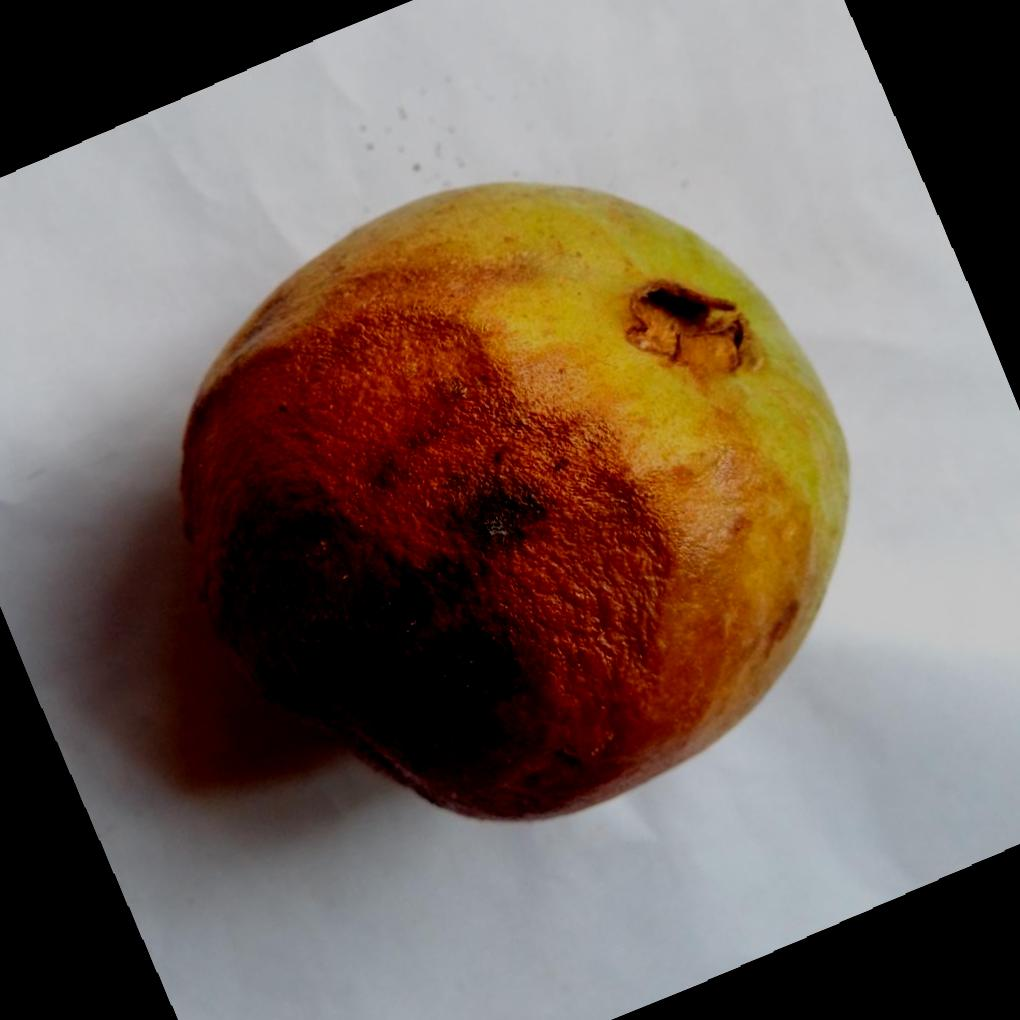FreshOrange: (174, 181, 849, 826)
